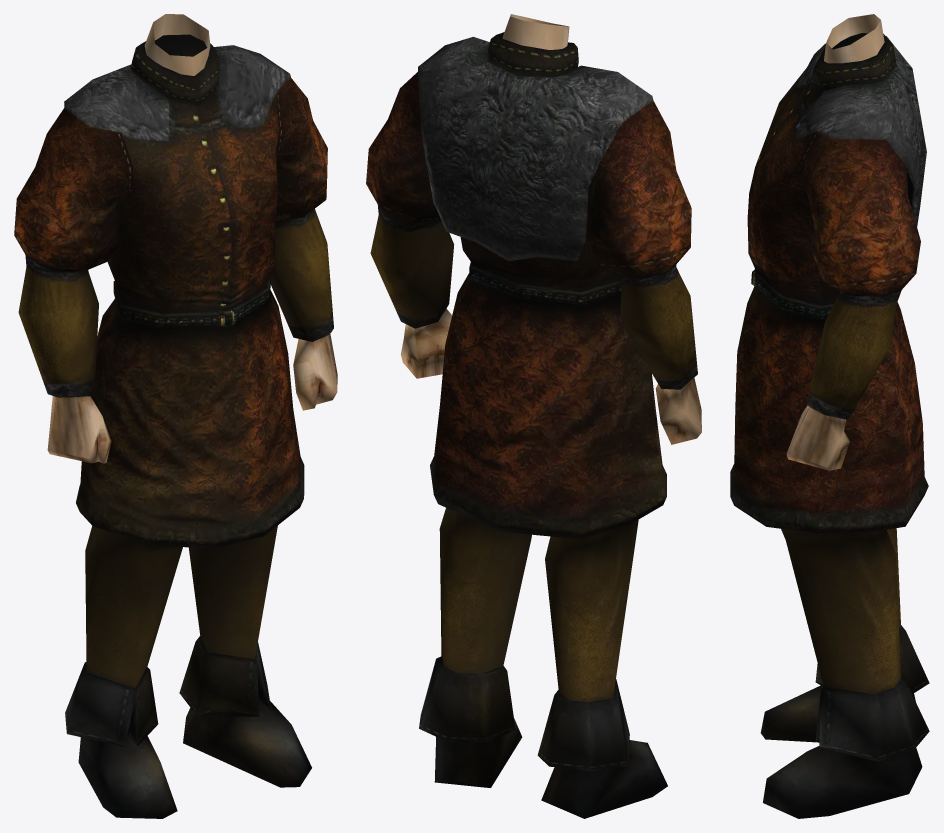
Rendered from HUM_ARMOR_RICH_MERCHANT_04.glb.
The picture shows the model from 3 angles, left to right: view 1: azimuth 30°, elevation 25°; view 2: azimuth 150°, elevation 25°; view 3: azimuth 270°, elevation 25°; orthographic projection. The views are drawn at different scales.
Visible parts, largest first — view 1: HUM_ARMOR_RICH_MERCHANT_04; view 2: HUM_ARMOR_RICH_MERCHANT_04; view 3: HUM_ARMOR_RICH_MERCHANT_04.
Boxes of the visible parts, x1,y1,x2,y2 form: HUM_ARMOR_RICH_MERCHANT_04: [14, 14, 337, 818]; HUM_ARMOR_RICH_MERCHANT_04: [366, 14, 701, 818]; HUM_ARMOR_RICH_MERCHANT_04: [730, 14, 929, 818].
Size of the model in its own units: 0.7034 by 1.7 by 0.4101.
2 materials, 2 textured.
